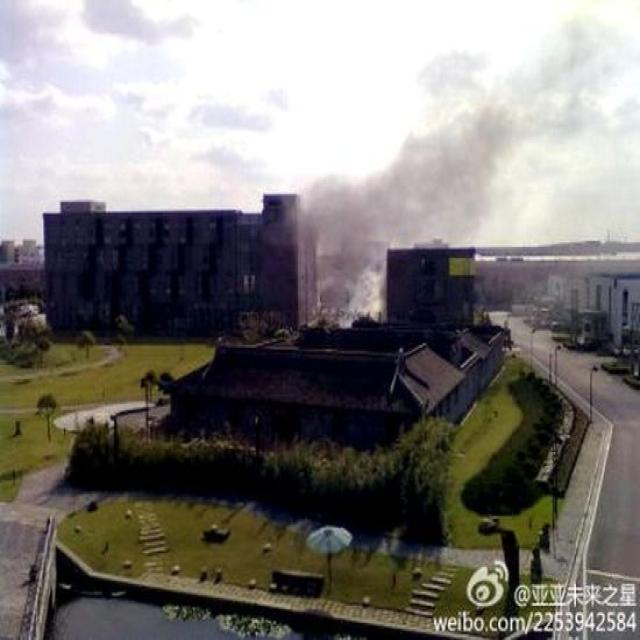smoke: (292, 23, 621, 309)
